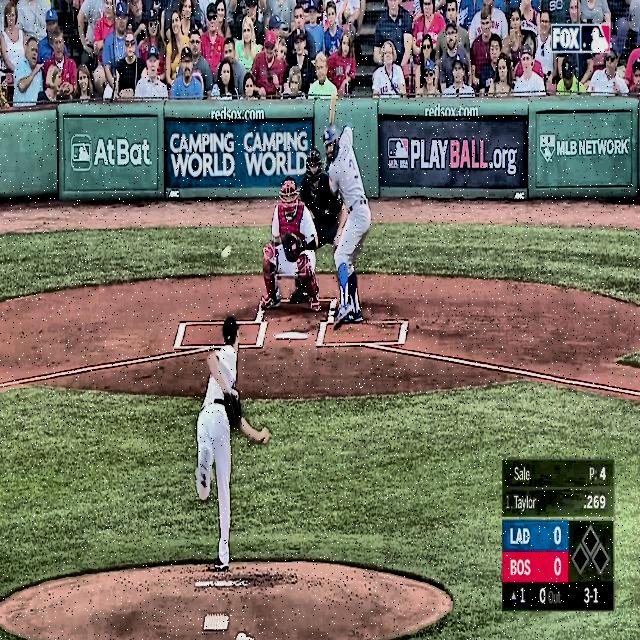baseball: (222, 245, 230, 259)
